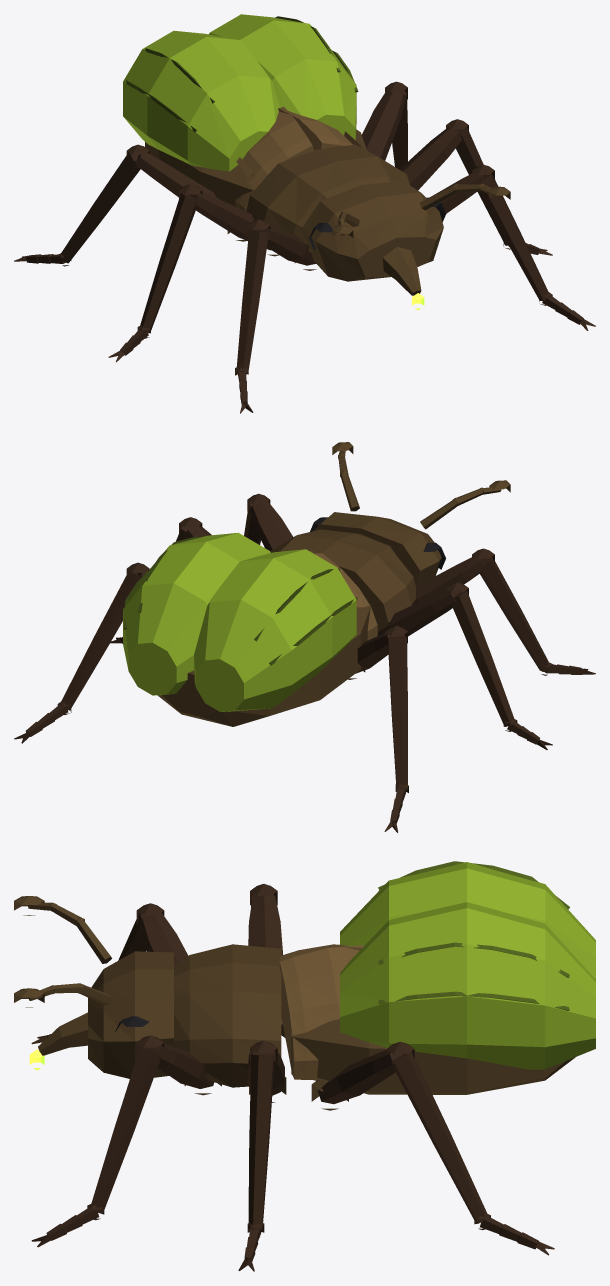
The model's file is acid_spitter.glb.
The picture shows the model from 3 angles, top to bottom: view 1: azimuth 30°, elevation 25°; view 2: azimuth 150°, elevation 25°; view 3: azimuth 270°, elevation 25°; orthographic projection. The views are drawn at different scales.
Parts seen in each view (by area): view 1: acid_sac, HeadBase001, ThoraxCore, BeetlePlate_01, Tibia001, Tibia003, BeetleBodyInner, Tibia005, Tibia000, Femur004, Femur002, Femur003 (+8 smaller); view 2: acid_sac, ThoraxCore, BeetleBodyInner, HeadBase001, Tibia005, Tibia003, Tibia004, Tibia001, Femur003, Femur001, Femur000, acid_vein (+2 smaller); view 3: acid_sac, ThoraxCore, HeadBase001, BeetleBodyInner, BeetlePlate_00, Tibia004, Tibia002, Tibia000, Femur004, acid_vein, Femur003, Femur000 (+6 smaller).
Boxes of the visible parts, x1,y1,x2,y2 form: acid_sac: (123,14,356,171); HeadBase001: (302,181,443,281); ThoraxCore: (246,144,410,252); BeetlePlate_01: (235,107,314,211); Tibia001: (236,230,268,372); Tibia003: (139,192,196,333); BeetleBodyInner: (145,129,366,206); Tibia005: (60,152,140,263); Tibia000: (479,173,549,300); Femur004: (362,89,405,160); Femur002: (399,127,462,190); Femur003: (188,192,270,250); acid_sac: (123,532,356,711); ThoraxCore: (270,529,415,631); BeetleBodyInner: (157,604,370,726); HeadBase001: (314,512,441,586); Tibia005: (388,636,407,789); Tibia003: (451,591,515,726); Tibia004: (60,570,139,710); Tibia001: (480,557,549,671); Femur003: (377,590,459,636); Femur001: (412,556,485,605); Femur000: (249,501,293,551); acid_vein: (123,537,357,665); acid_sac: (340,862,595,1069); ThoraxCore: (174,944,281,1087); HeadBase001: (88,951,173,1078); BeetleBodyInner: (291,1019,575,1094); BeetlePlate_00: (279,945,364,1080); Tibia004: (393,1051,487,1223); Tibia002: (248,1054,274,1229); Tibia000: (89,1046,160,1213); Femur004: (317,1050,403,1104); acid_vein: (378,861,569,1010); Femur003: (248,895,282,1017); Femur000: (141,1043,214,1088).
Bounding box in the file's own units: 3.13 × 1.44 × 2.98.
